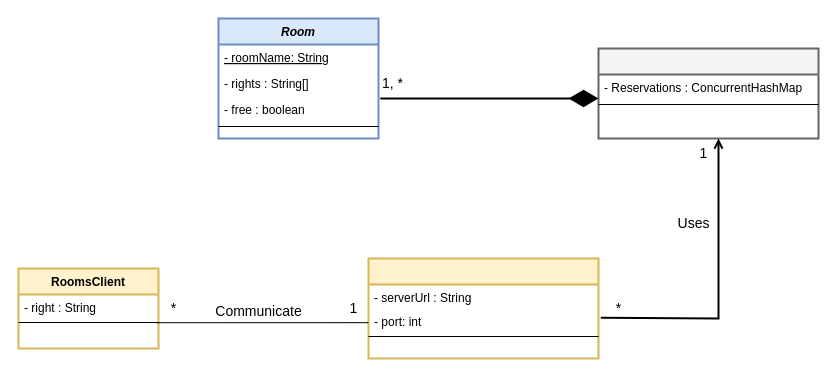
Image size: 836x376. Some labels were removed from this diagram. The shapes that lost their labels are listed below. From the top down, each one's box as (x1, y1, x2, y2) in pixels, then its label:
(597, 47, 819, 139): Rooms
(367, 257, 599, 359): RoomsServer
